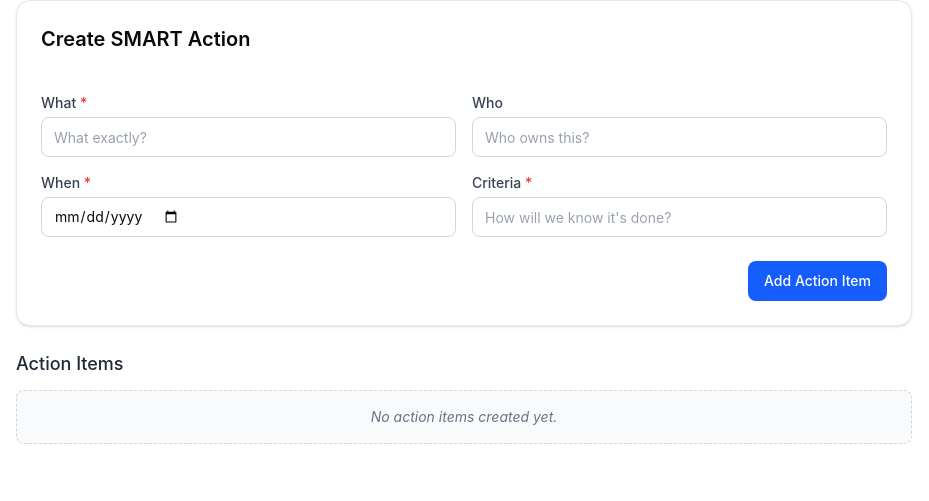
Test: SmartActionBuilder › validates required fields
Click the button with test id "create-action-btn" at {"x": 818, "y": 281}, box [748,261,887,301]
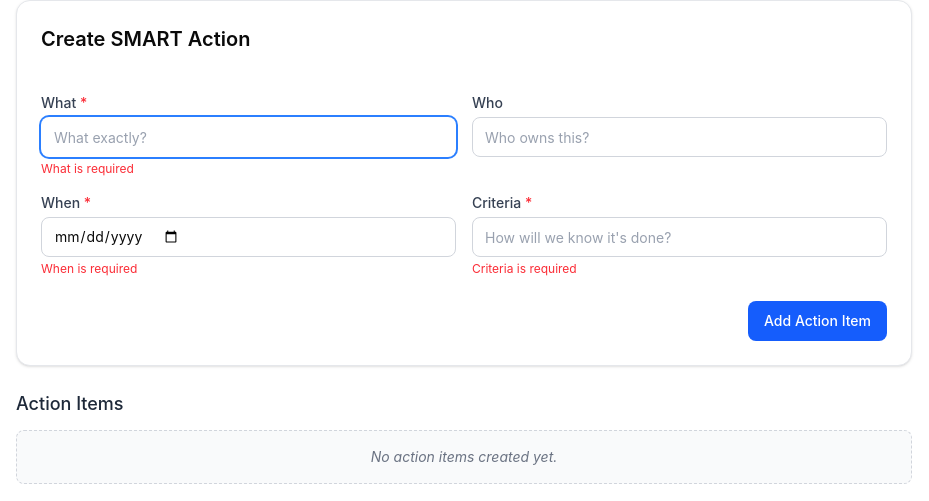
expect the text "What is required" is shown: met, box [41,161,134,176]
expect the text "When is required" is shown: met, box [41,261,137,276]
expect the text "Criteria is required" is shown: met, box [472,261,577,276]
